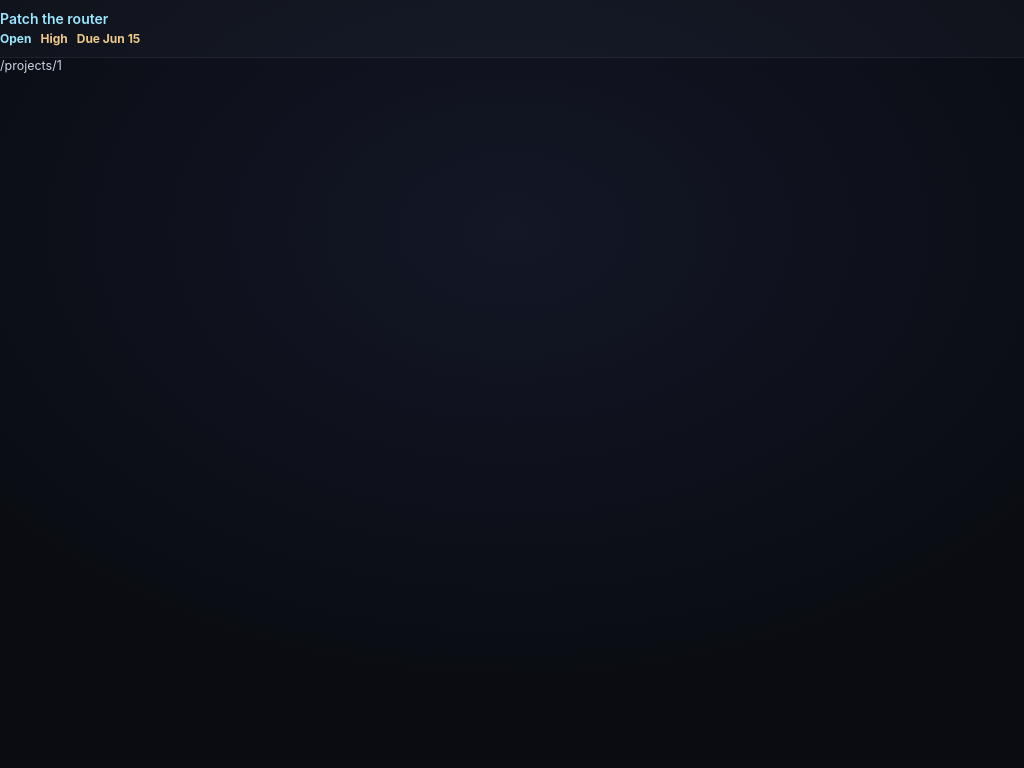
Test: TaskCard › chip popovers inside the card link › pages the due-date calendar without navigating or committing
Click the button with aria-label "Due date:" at (108, 39), box x1=72 y1=30 x2=145 y2=49
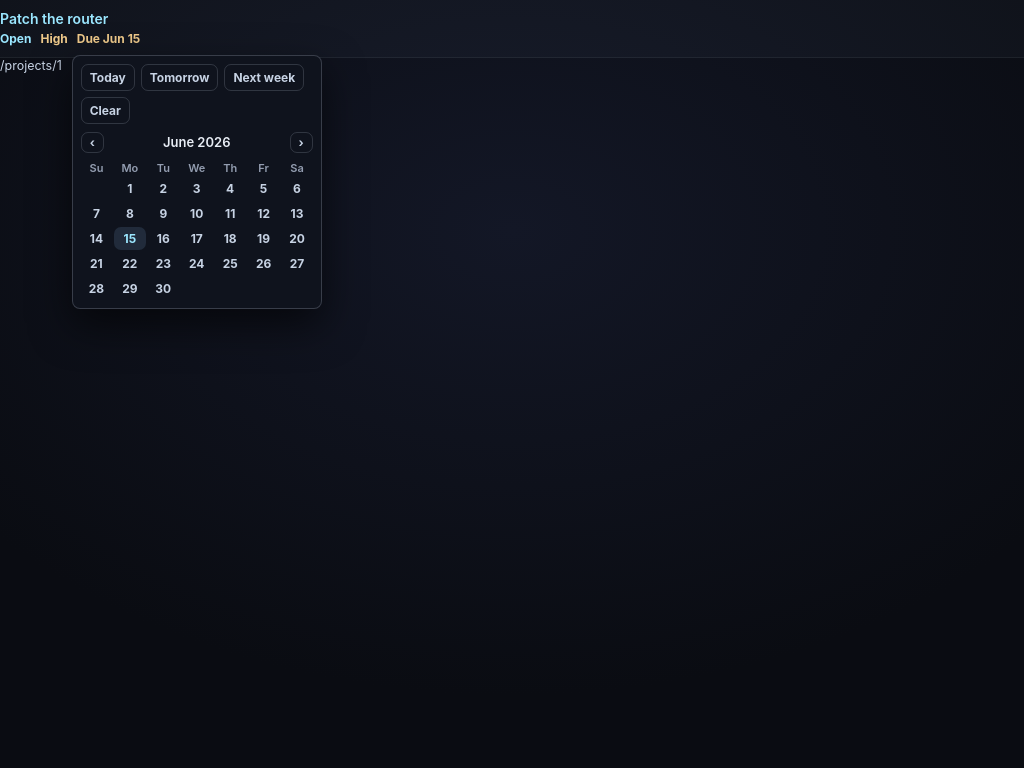
Click the button named "Next month" at (301, 142), box x1=290 y1=132 x2=313 y2=153
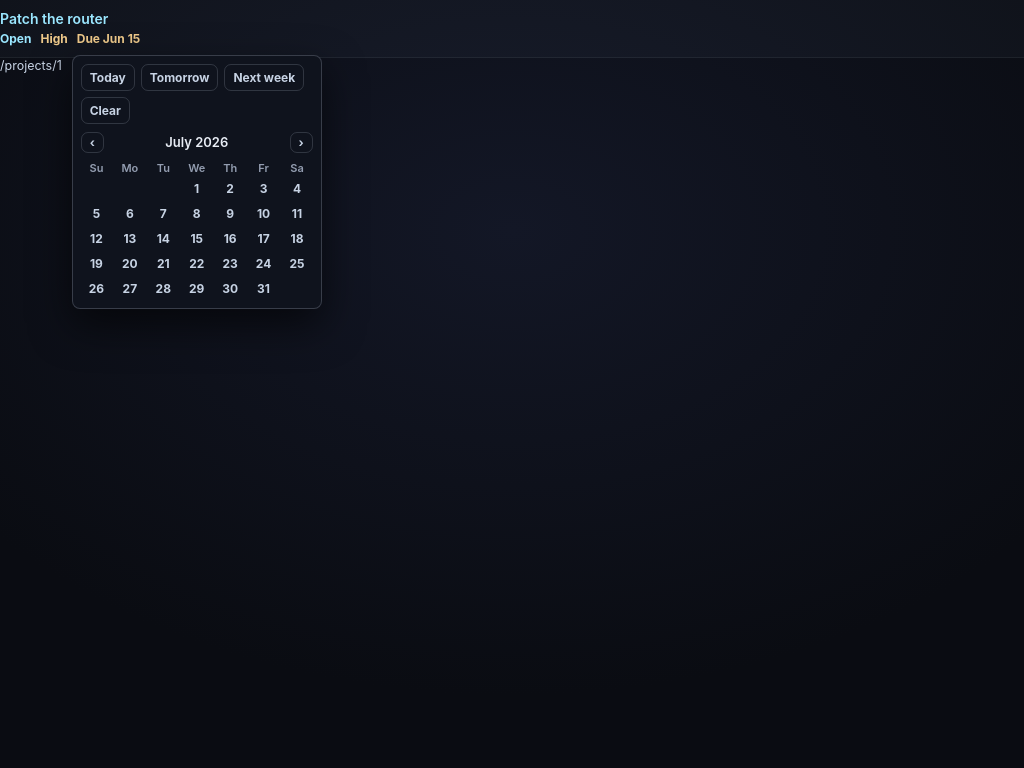
Expected: the text with test id "location" reads "/projects/1", x1=0 y1=58 x2=62 y2=73
Now the text "July 2026" is shown, box x1=165 y1=134 x2=228 y2=150
